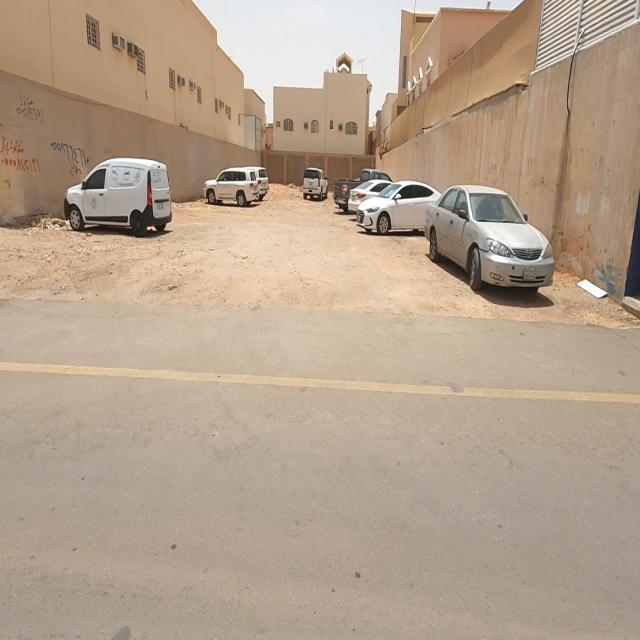Graffiti: (50, 137, 91, 178), (1, 140, 40, 179), (16, 94, 44, 129)
